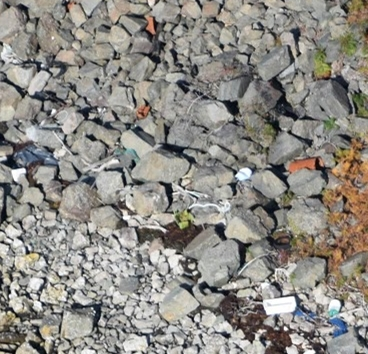scattered_barrel: (8, 98, 159, 174)
together_barrel: (259, 284, 368, 338)
white_in_green: (268, 128, 346, 201), (218, 148, 268, 197)
